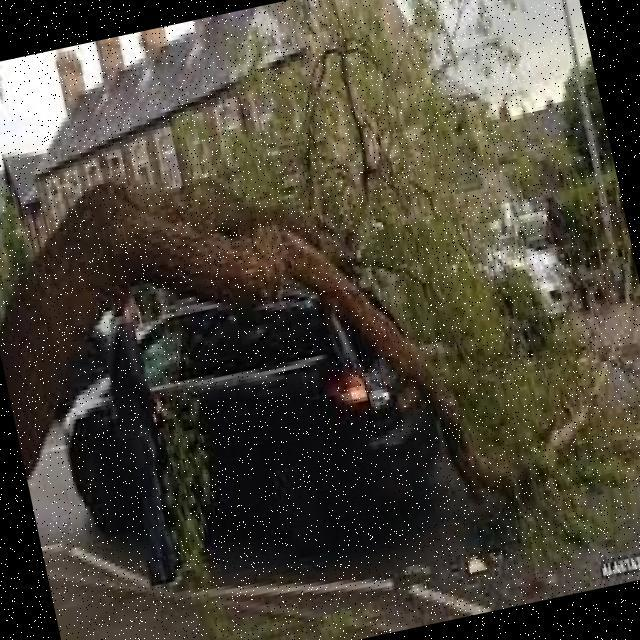fallen_object: (0, 32, 634, 589)
